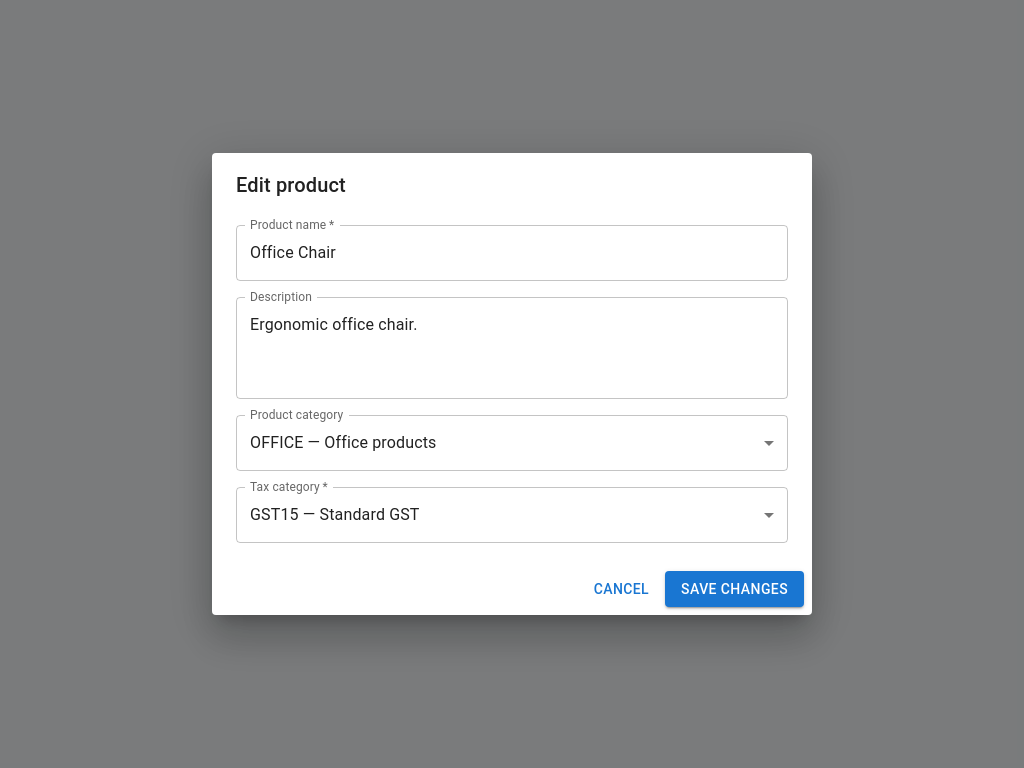
Test: EditProductDetailsDialog › requires a product name
Clear the field labelled "Product name *" at coordinates (512, 253), box left=236, top=225, right=788, bottom=281
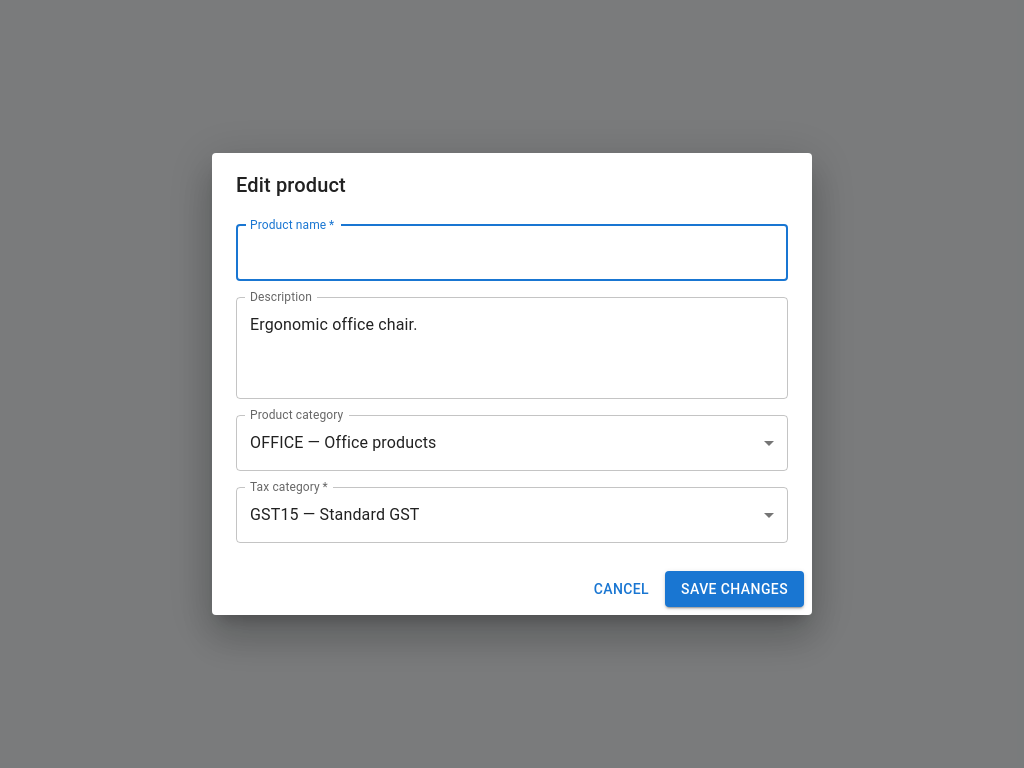
Click the button "Save changes".
click(735, 589)  # box left=665, top=571, right=804, bottom=607
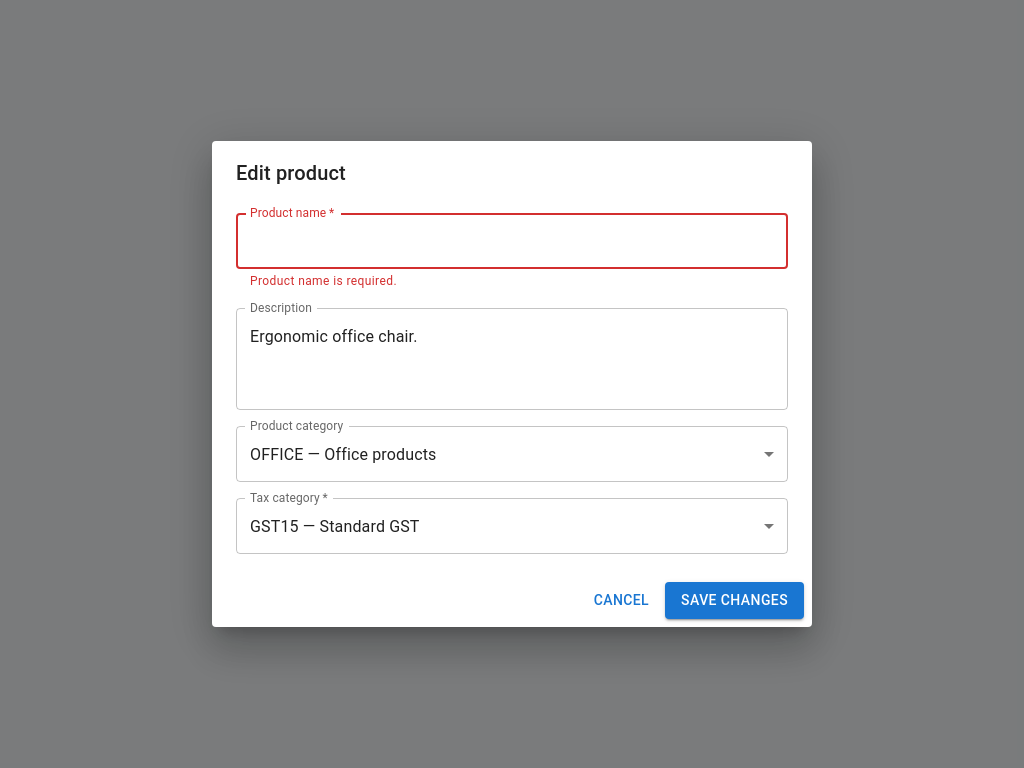
Expected: the text "Product name is required." is shown, left=250, top=274, right=397, bottom=288
